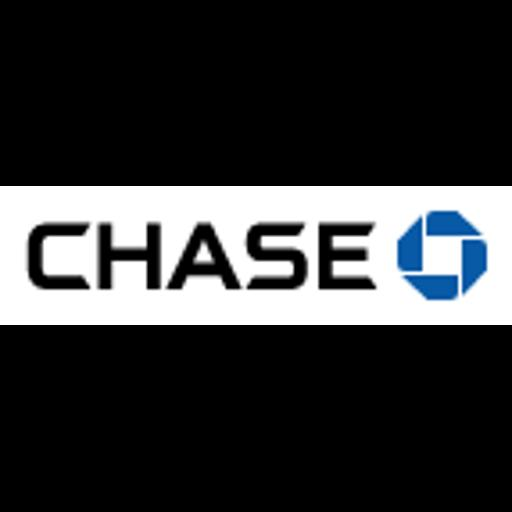Chase Personal Banking: (0, 186, 512, 325)
